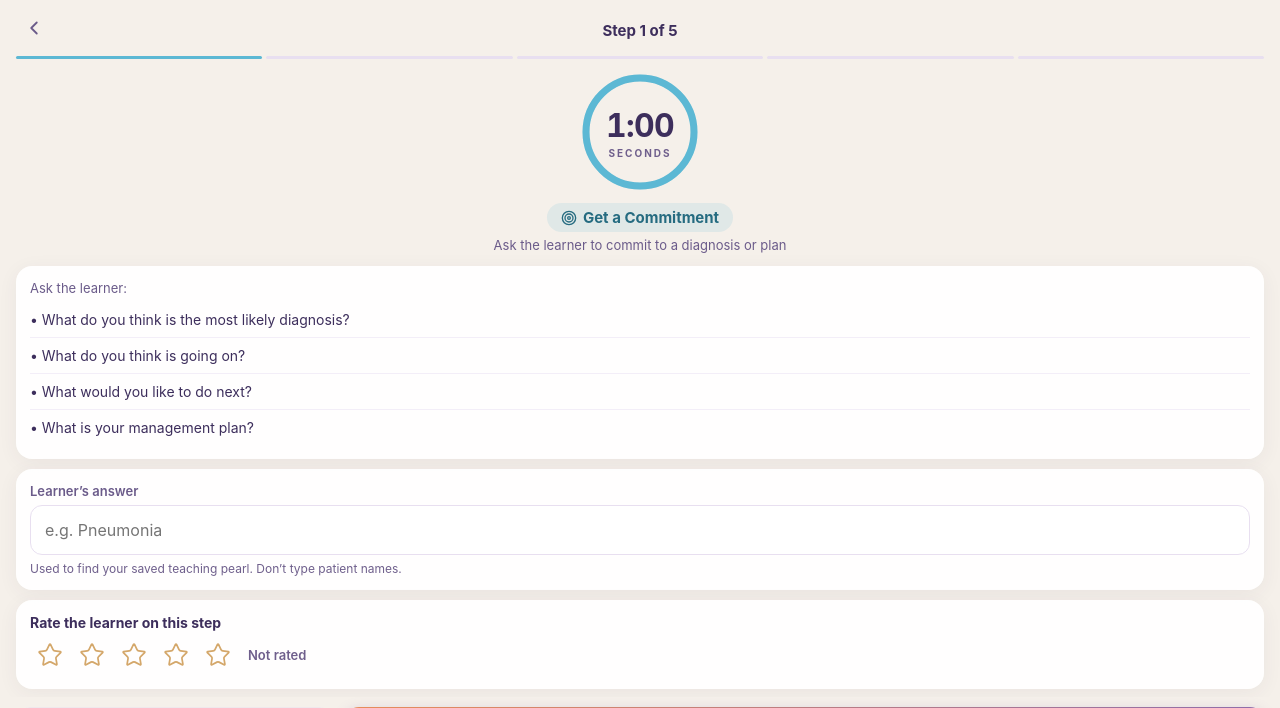
session step rating › tapping the third star shows Competent and marks it pressed; tapping again clears it
Click the button named "3 stars, Competent" at (134, 655), box x1=114 y1=635 x2=154 y2=675
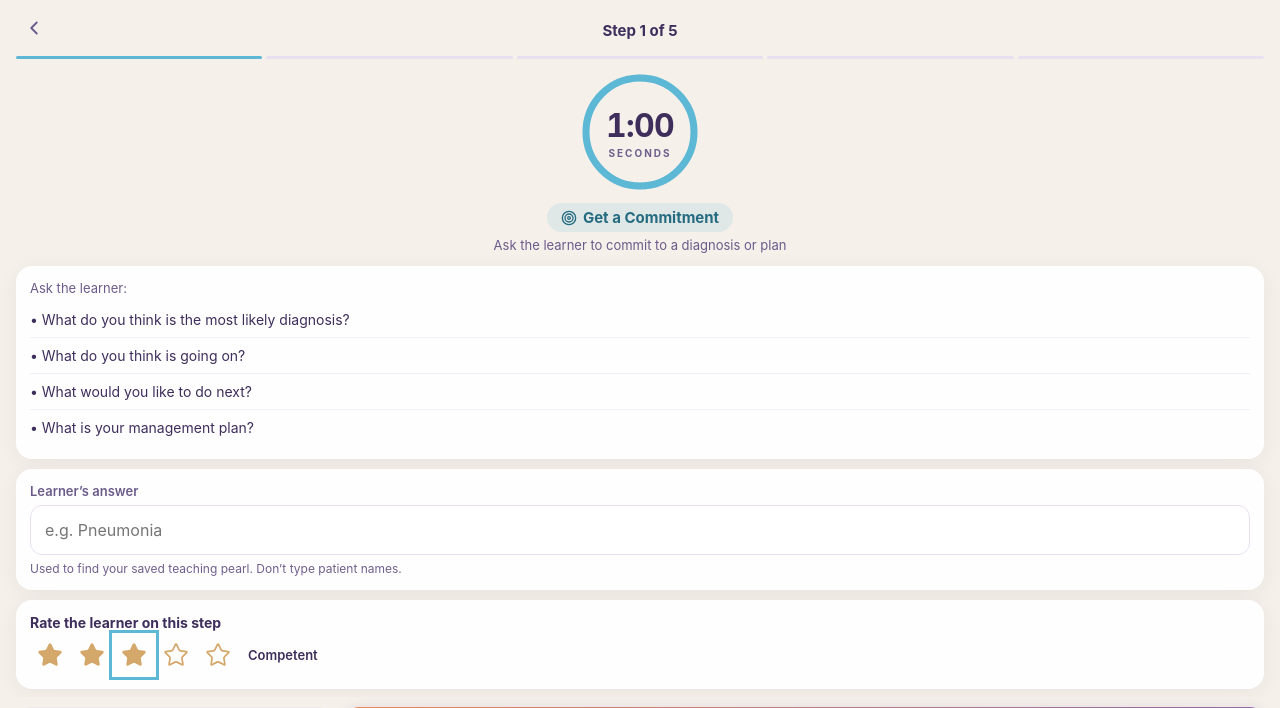
Now the text "Competent" is shown, box x1=248 y1=647 x2=318 y2=663
Click the button named "3 stars, Competent" at (134, 655), box x1=114 y1=635 x2=154 y2=675
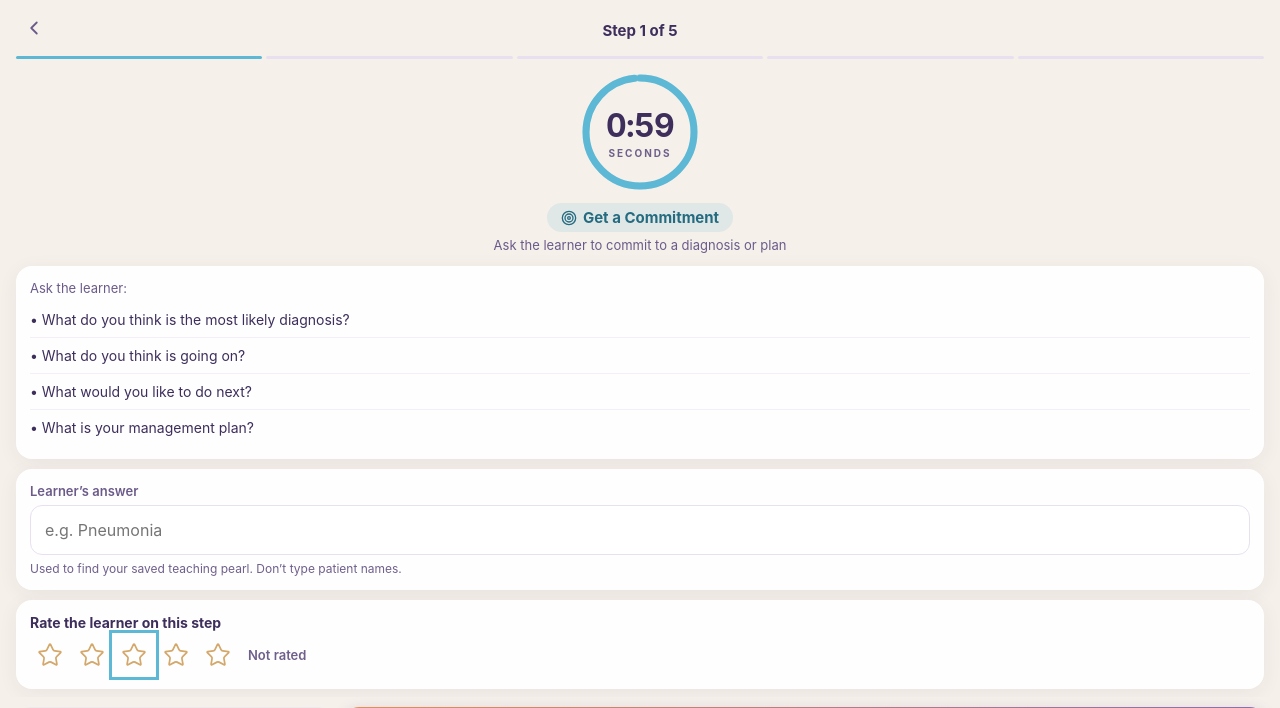
Now the text "Not rated" is shown, box x1=248 y1=647 x2=306 y2=663
